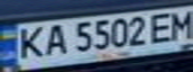0: (109, 16, 133, 48)
2: (127, 12, 151, 47)
5: (90, 17, 115, 52), (69, 19, 93, 54)
A: (39, 21, 69, 57)
E: (148, 10, 178, 44)
K: (12, 24, 48, 61)
M: (166, 7, 193, 40)
